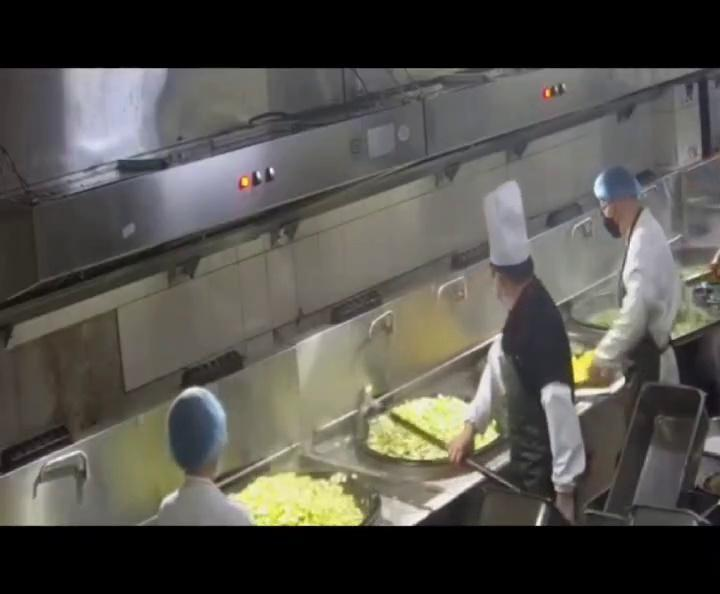gloves: (159, 383, 234, 480), (593, 166, 638, 204)
mask: (596, 213, 628, 244)
